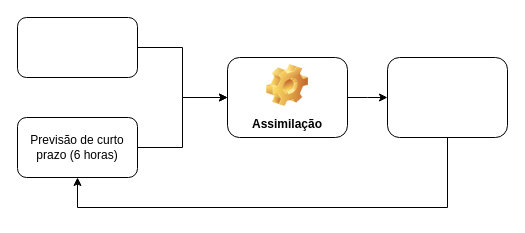
This 525x233 diagram has some shape labels left out. The centre of each missing label's shape, as x and y in pixels:
Observações: point 77,47
Previsão atualizada/corrigida = Análise: point 447,97
